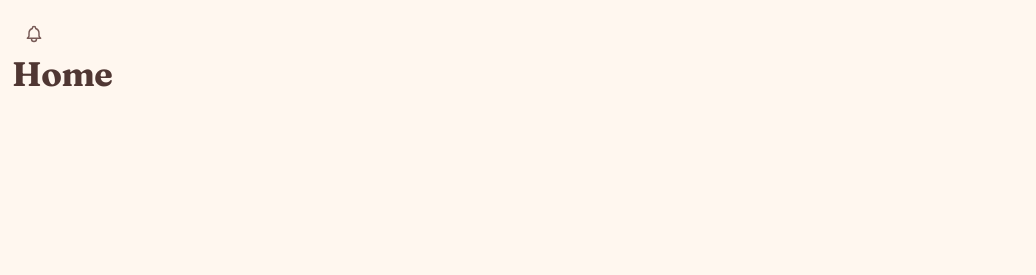
Scenario: PetParentNotificationPopover › shows an empty state and marks nothing when there are no notices
The width and height of the screenshot is (1036, 275).
Click the button named "Open notifications".
click(34, 34)  # box [12, 12, 56, 56]
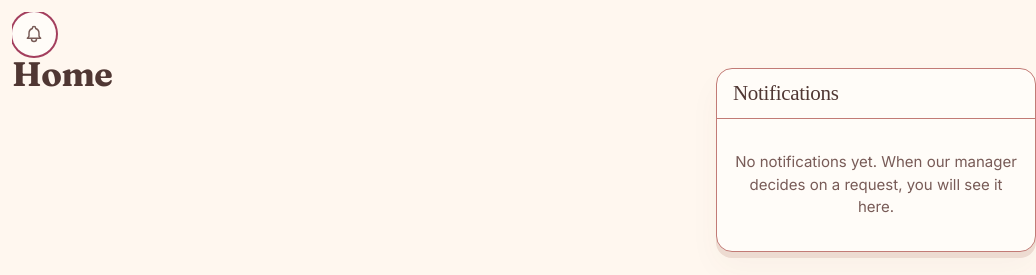
Result: the text "No notifications yet. When our manager decides on a request, you will see it here." is shown at [735, 152, 1017, 216]
